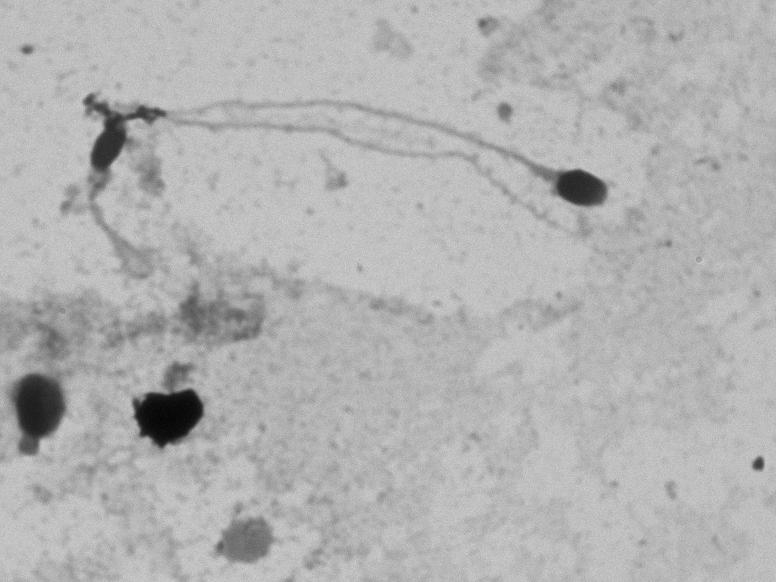Abnormal: (45, 114, 162, 290)
Normal: (117, 80, 627, 220)
